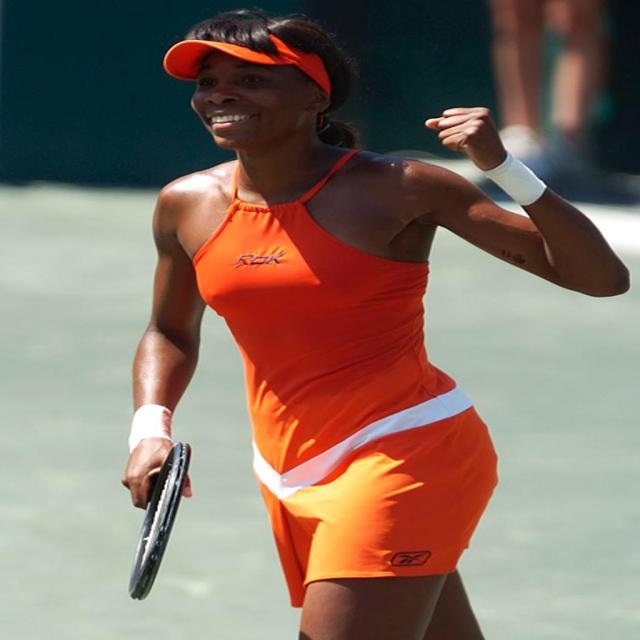Face: (175, 36, 361, 172)
